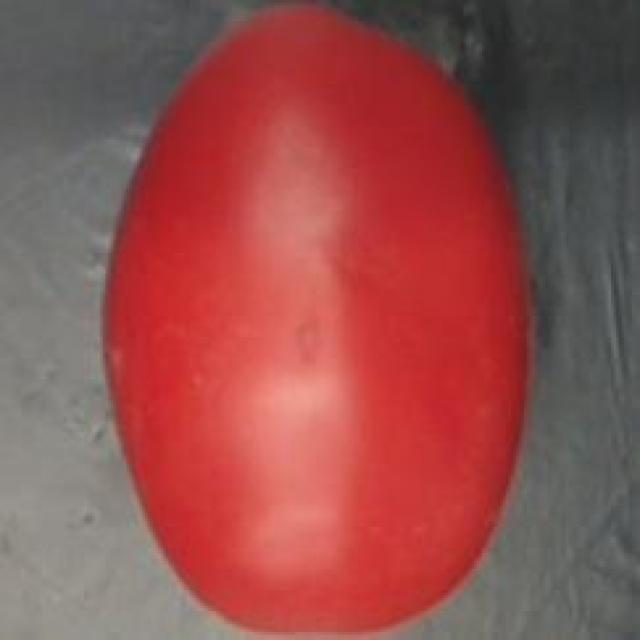ripe tomato: (82, 0, 556, 640)
